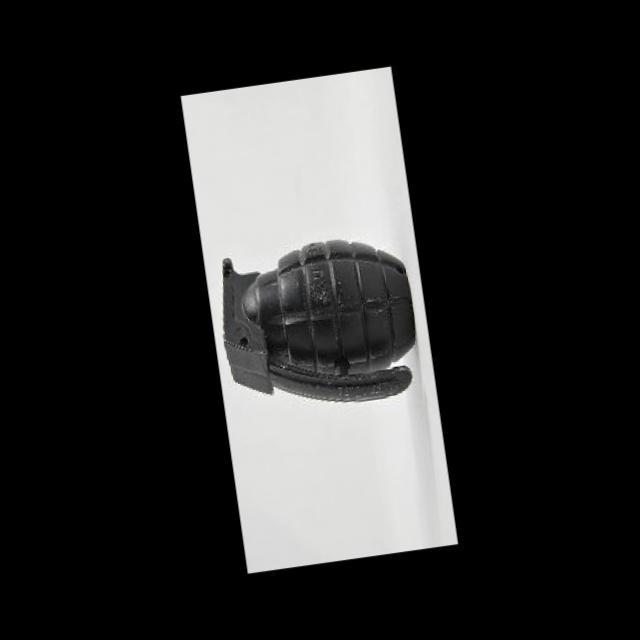grenade: (202, 210, 432, 422)
